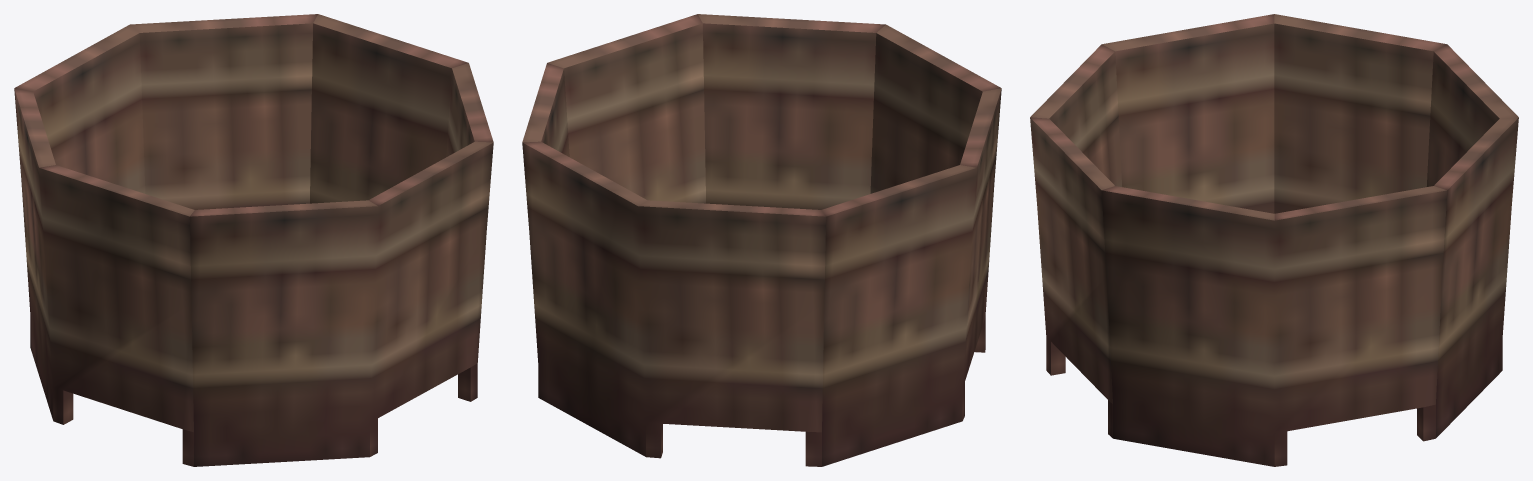
The model's file is ob-b1-006-woodbarrel.fbx.
3 views of the same model, side by side, from view 1: azimuth 30°, elevation 25°; view 2: azimuth 150°, elevation 25°; view 3: azimuth 270°, elevation 25° (orthographic).
Visible parts, largest first — view 1: waterbarrel; view 2: waterbarrel; view 3: waterbarrel.
Boxes of the visible parts, bbox=[...] form: waterbarrel: bbox=[14, 14, 493, 466]; waterbarrel: bbox=[522, 14, 1001, 466]; waterbarrel: bbox=[1030, 14, 1518, 466].
Bounding box in the file's own units: 1.05 × 0.5975 × 1.05.
